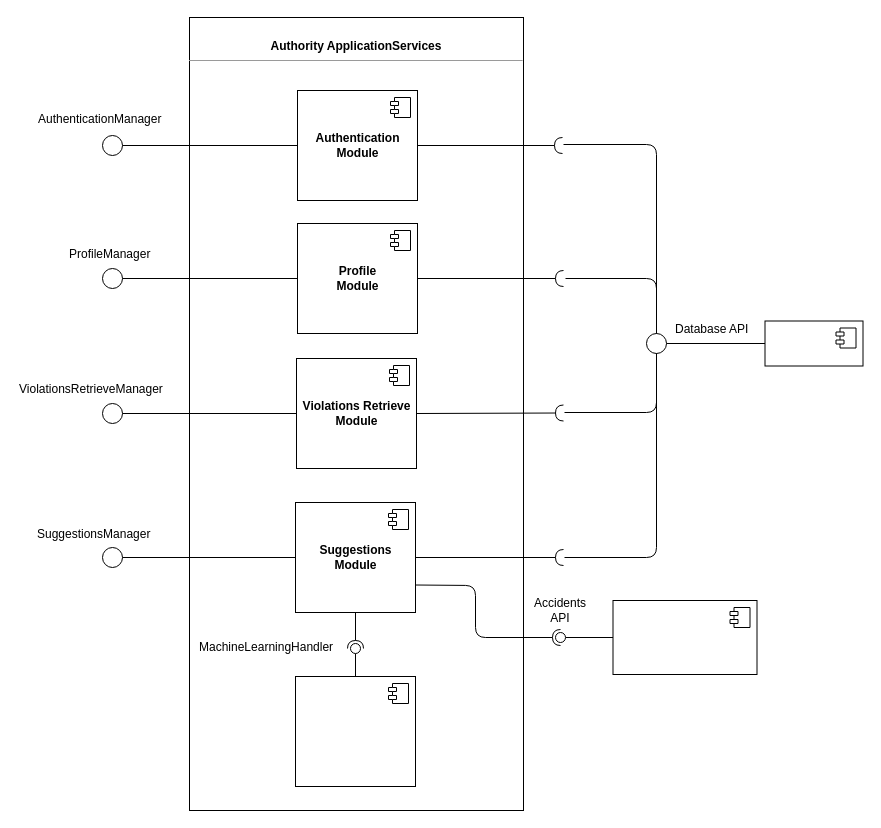
Some shapes in this 881 by 828 pixel diagram are drawn without their labels. The shapes that lost their labels are listed below. From the top down, each one's box as (x1, y1, x2, y2) in pixels, then its label:
(764, 320, 863, 366): DBMS
(612, 600, 757, 674): Municipality's Accidents Service
(294, 676, 416, 786): Machine Learning Module
